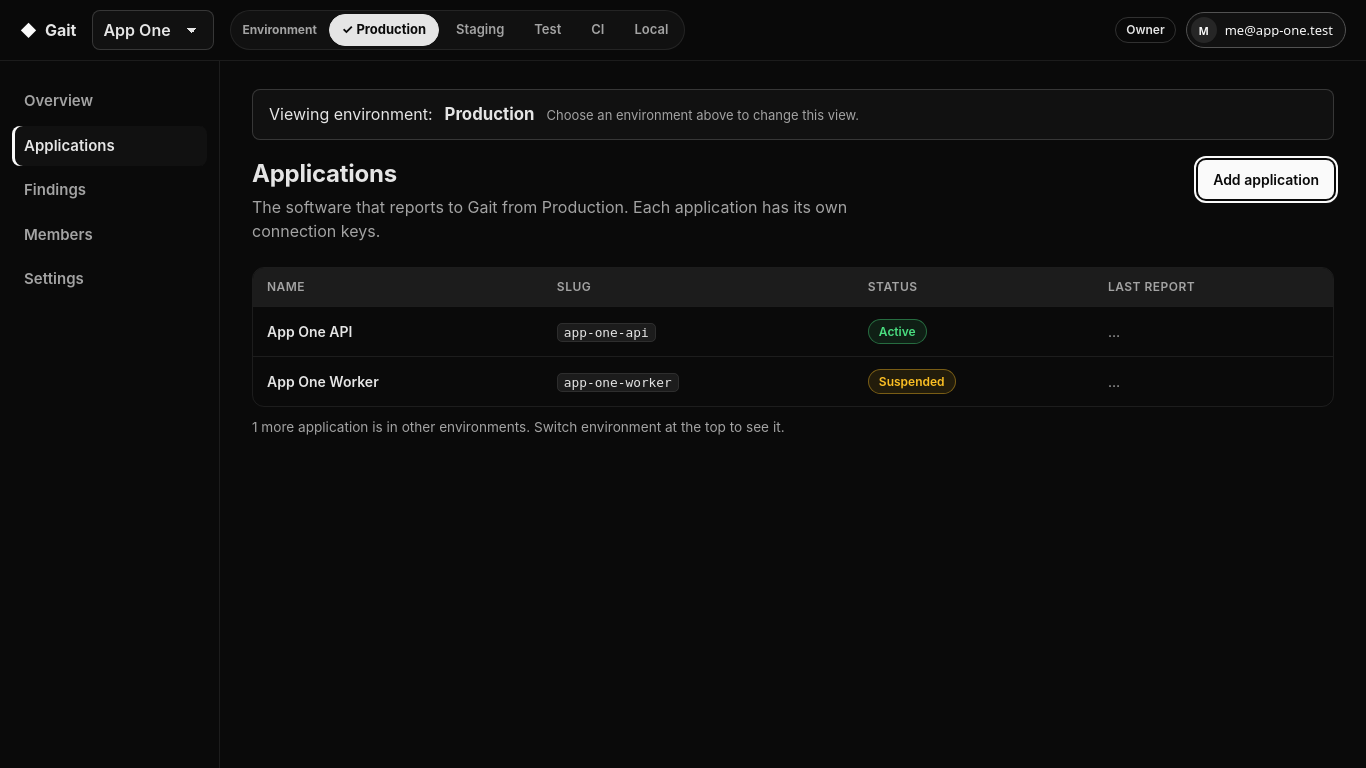
Scenario: F2 application list › the dialog closes on Escape and returns focus to the button that opened it
The width and height of the screenshot is (1366, 768).
Click the button "Add application": (1266, 180) x1=1198 y1=160 x2=1334 y2=199
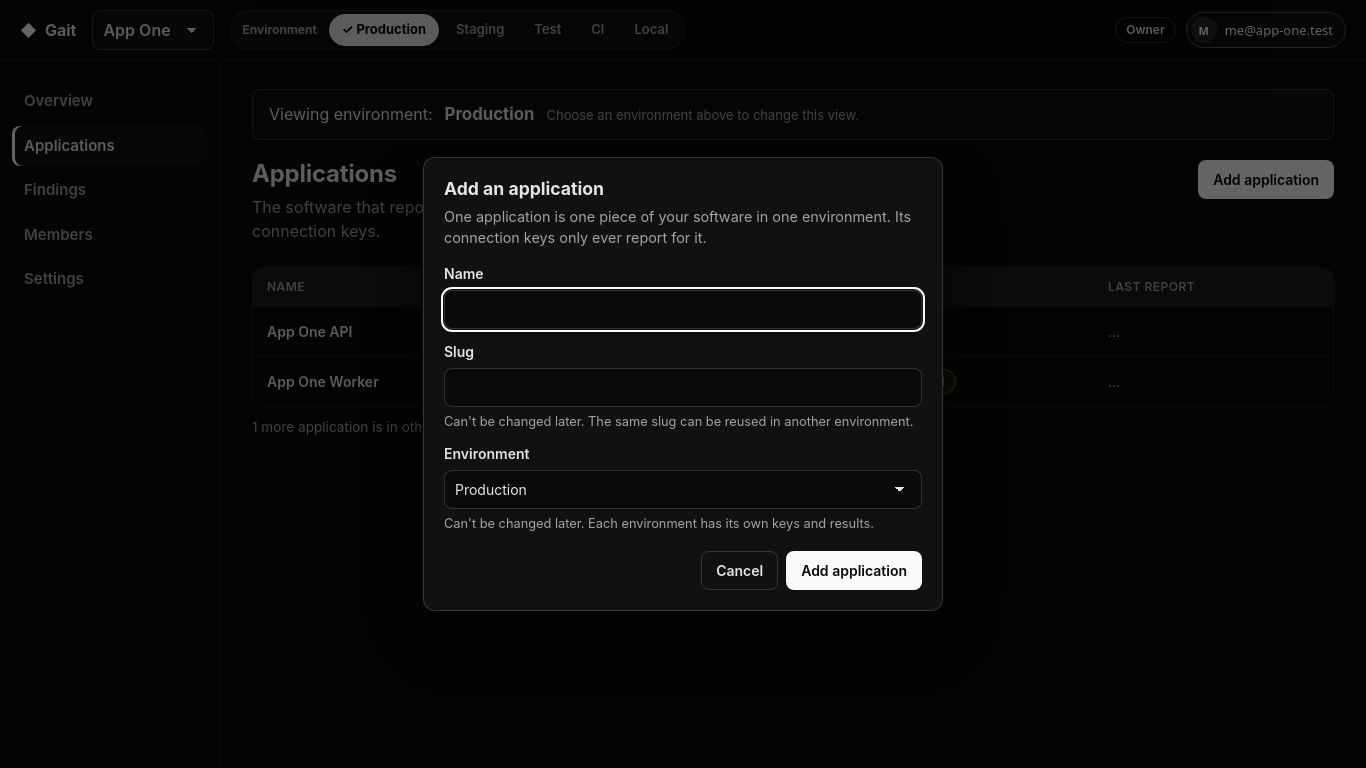
Press Escape in the dialog, box x1=423 y1=157 x2=943 y2=610
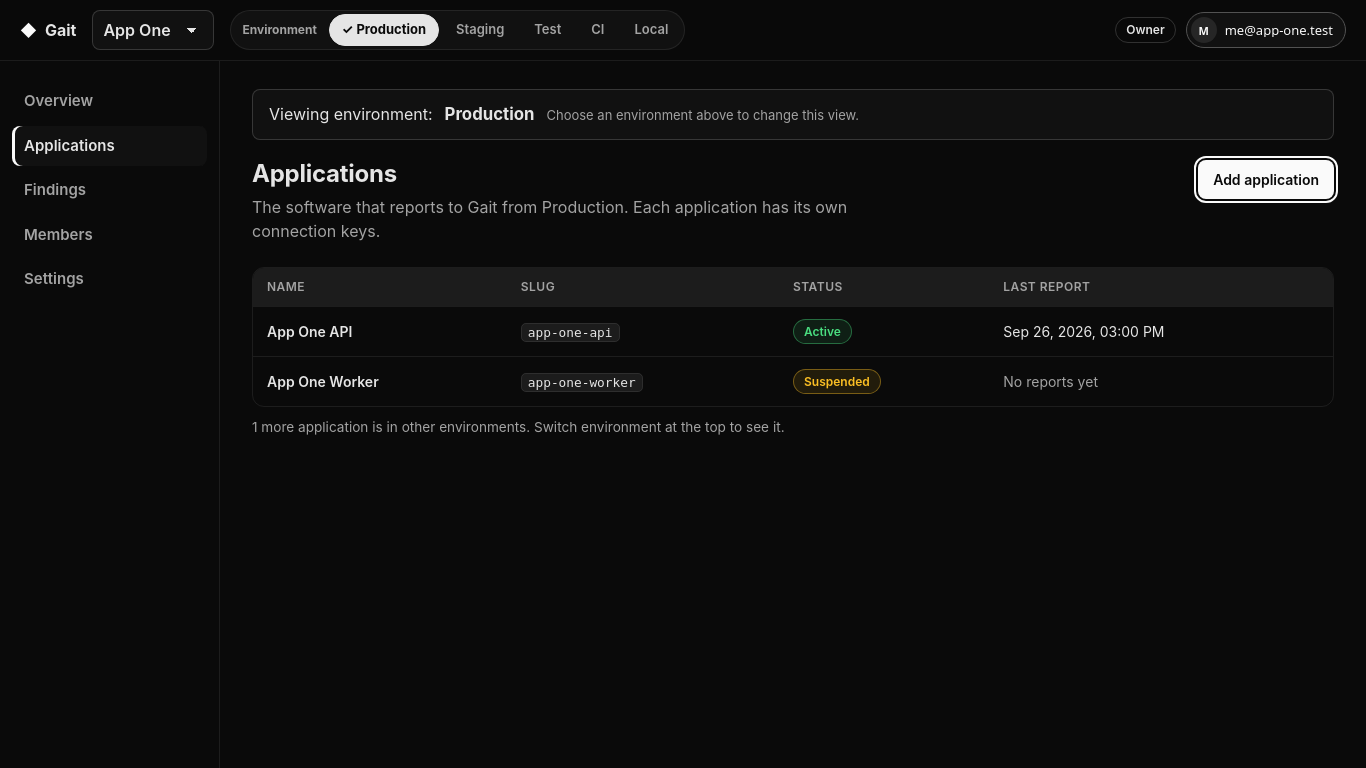
Check: the dialog is gone
